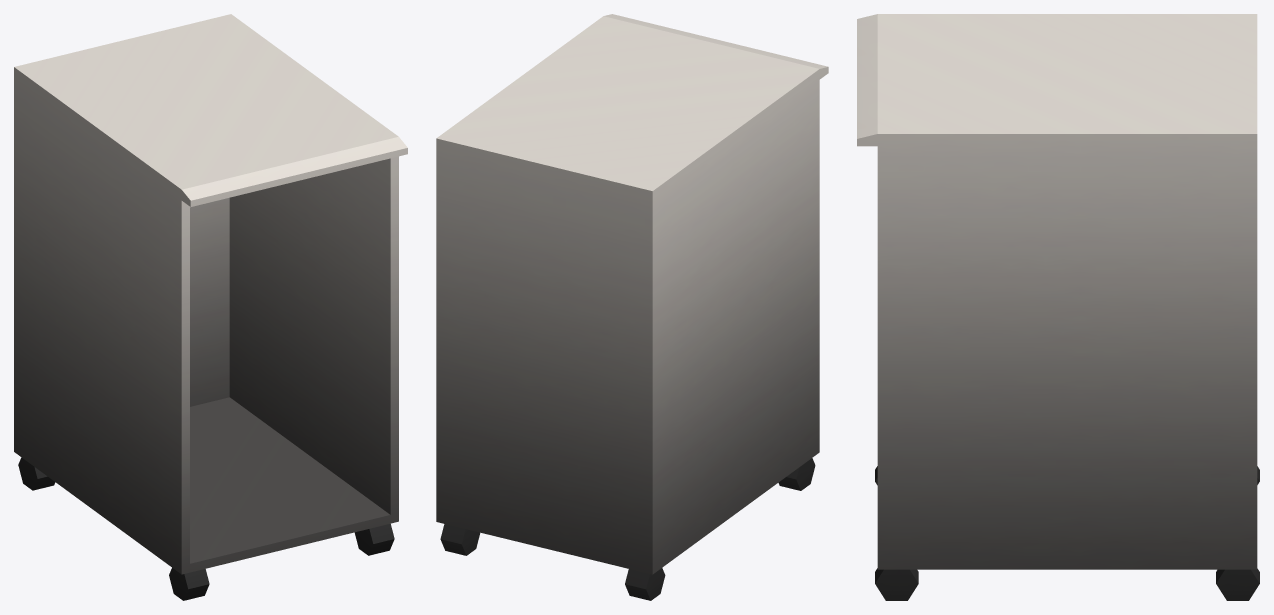
The model's file is DeskSideCabinet_Small.fbx.
3 renders of one model, left to right at view 1: azimuth 30°, elevation 25°; view 2: azimuth 150°, elevation 25°; view 3: azimuth 270°, elevation 25°, orthographic. The views are drawn at different scales.
Visible parts, largest first — view 1: DeskSideCabinet_Small; view 2: DeskSideCabinet_Small; view 3: DeskSideCabinet_Small.
Boxes of the visible parts, <box> form: DeskSideCabinet_Small: <box>14,14,407,600</box>; DeskSideCabinet_Small: <box>436,14,828,600</box>; DeskSideCabinet_Small: <box>857,14,1259,600</box>.
Bounding box in the file's own units: 38.88 × 71.05 × 55.17.
